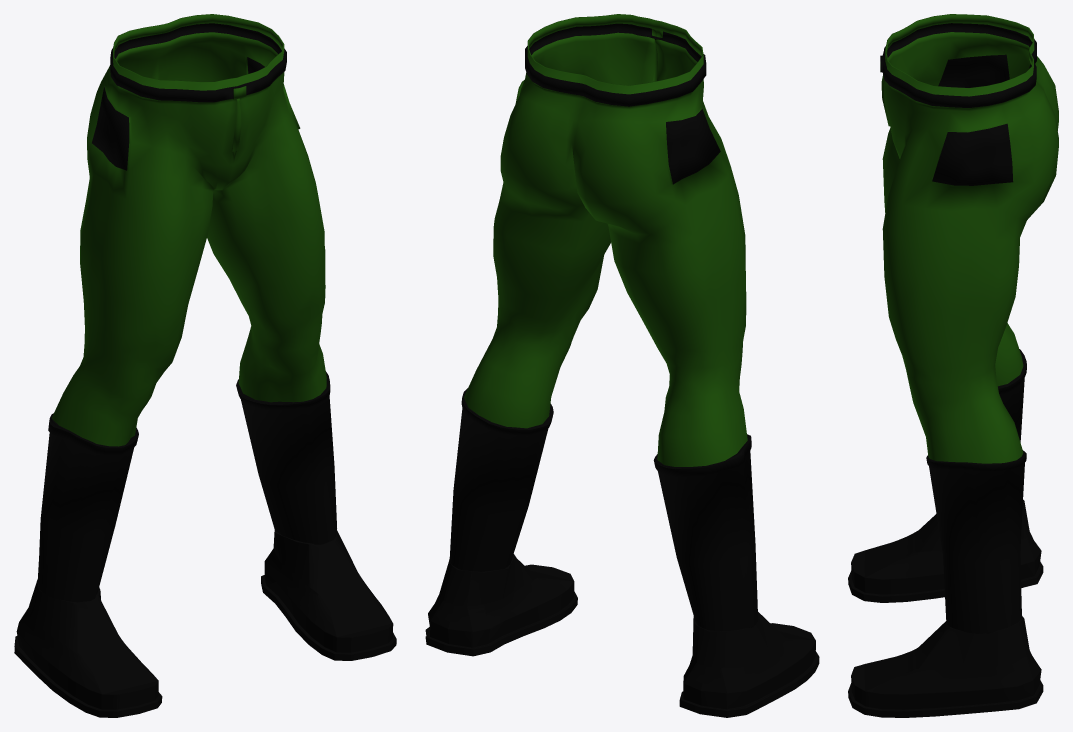
The model's file is Br_Nogi_1.fbx.
The picture shows the model from 3 angles, left to right: view 1: azimuth 30°, elevation 25°; view 2: azimuth 150°, elevation 25°; view 3: azimuth 270°, elevation 25°; orthographic projection. The views are drawn at different scales.
Parts seen in each view (by area): view 1: Plane.005; view 2: Plane.005; view 3: Plane.005.
Part boxes in pixels (bbox=[...]): Plane.005: bbox=[14, 14, 396, 717]; Plane.005: bbox=[425, 14, 819, 717]; Plane.005: bbox=[848, 14, 1058, 717].
Bounding box in the file's own units: 61.75 × 110 × 35.41.
